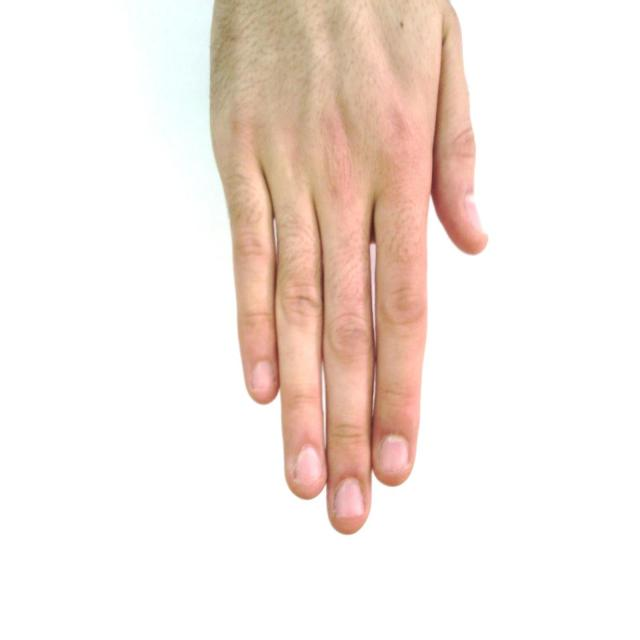others: (212, 1, 504, 536)
